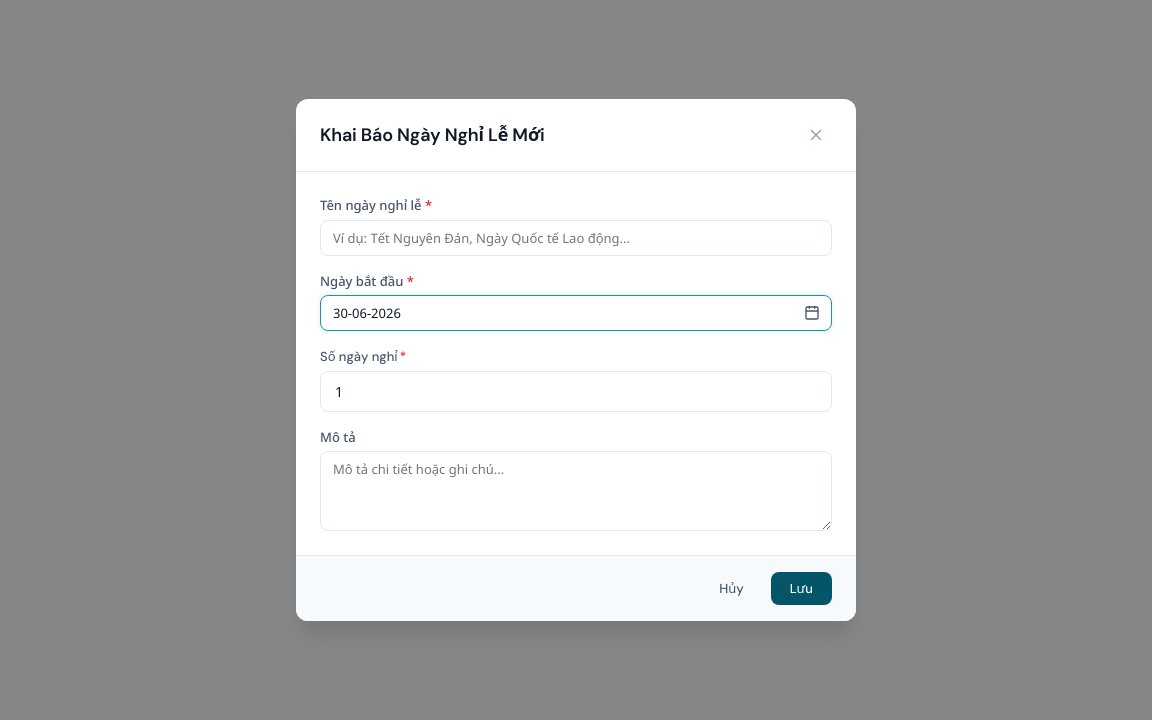
PublicHolidayFormModal › opens DatePickerModal on Enter or Space key press on the date display input
The image size is (1152, 720).
# Press Space
Type keys " "
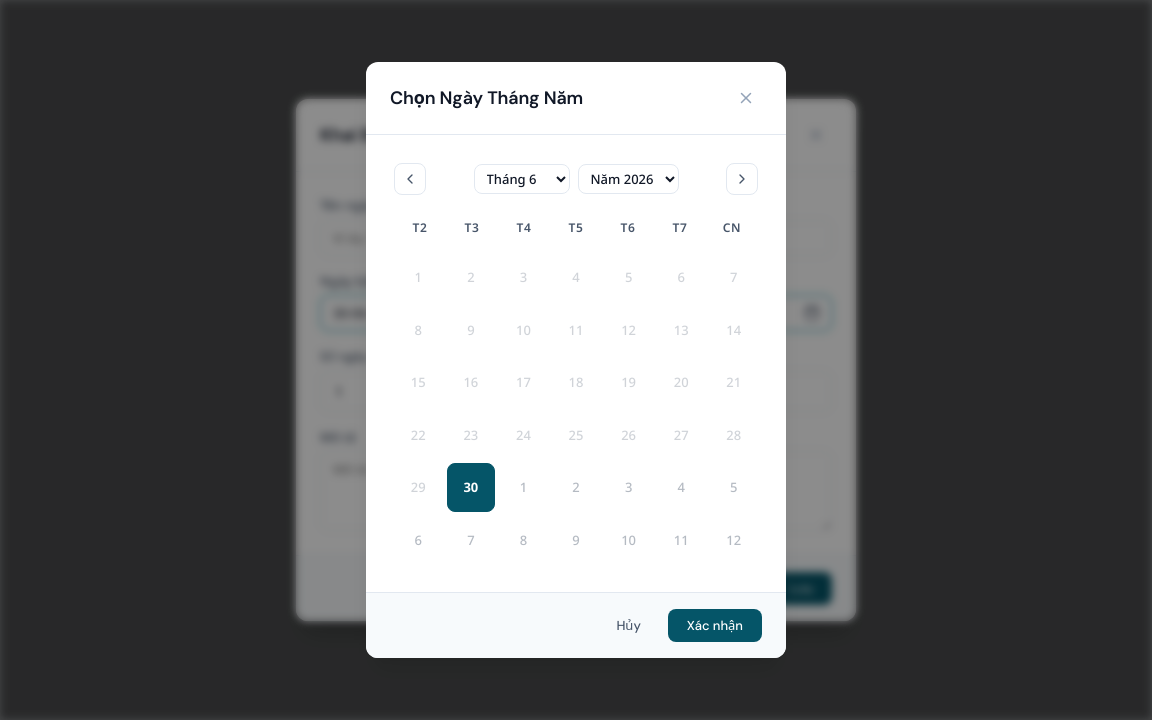
Expected: the heading "Chọn Ngày Tháng Năm" is shown, x1=390 y1=86 x2=583 y2=109
Click the button "Hủy": (629, 626) x1=597 y1=609 x2=660 y2=642
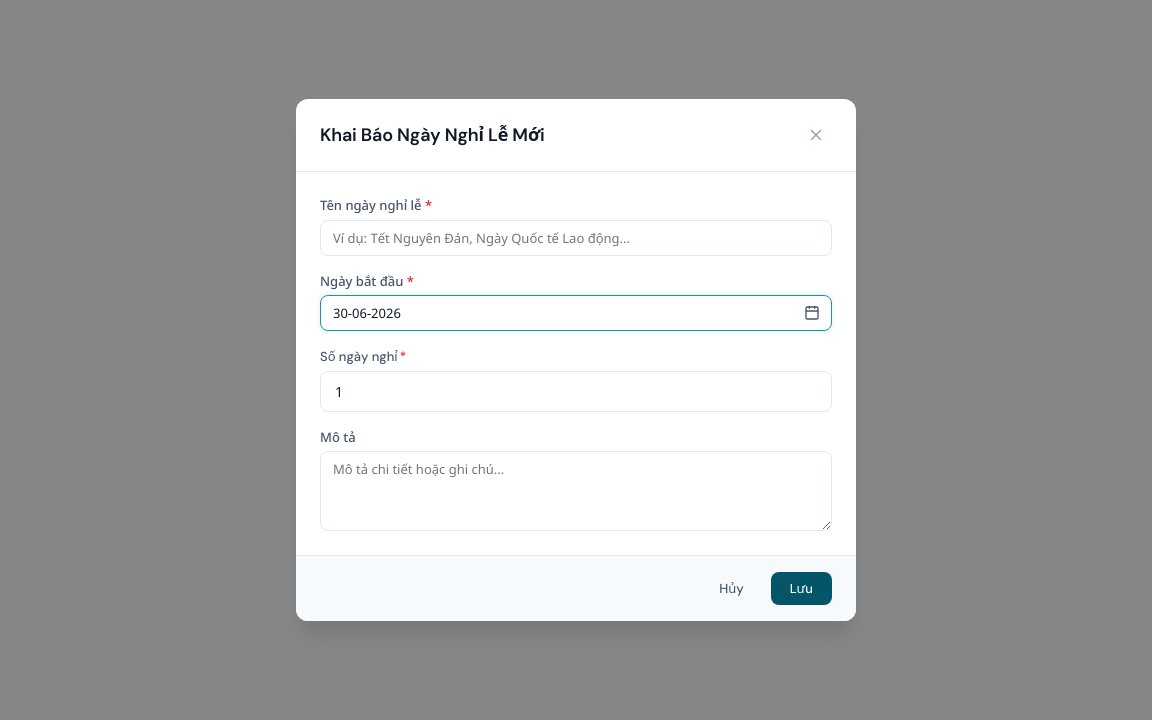
Expected: the heading "Chọn Ngày Tháng Năm" is gone
Press Enter
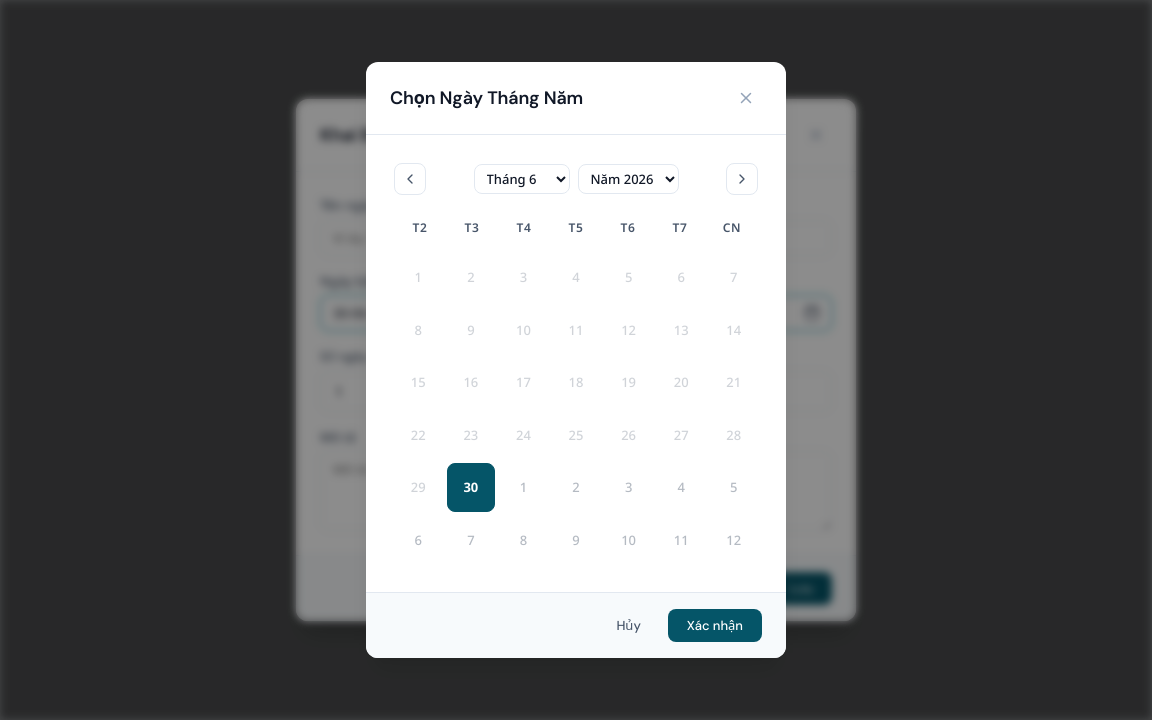
Expected: the heading "Chọn Ngày Tháng Năm" is shown, x1=390 y1=86 x2=583 y2=109
